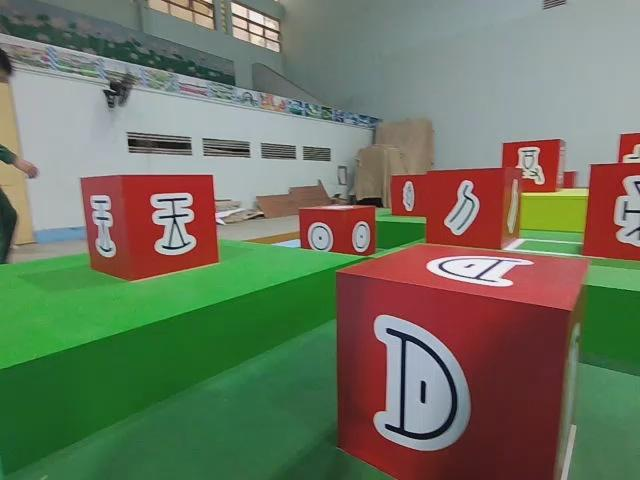R2 Real: (331, 239, 591, 480), (78, 171, 221, 282), (423, 166, 525, 247), (579, 159, 640, 260), (298, 201, 378, 258), (499, 136, 567, 196), (388, 171, 436, 218)
